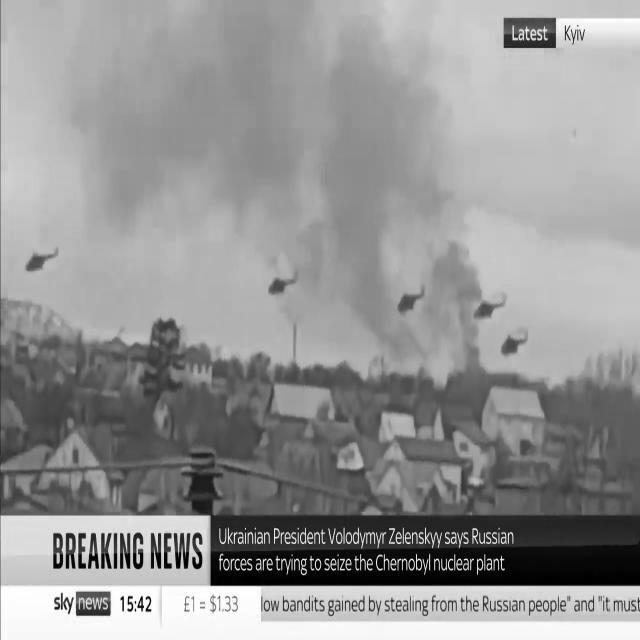helikopter: (382, 270, 434, 332), (464, 274, 512, 328), (18, 232, 63, 284), (263, 262, 306, 312)
